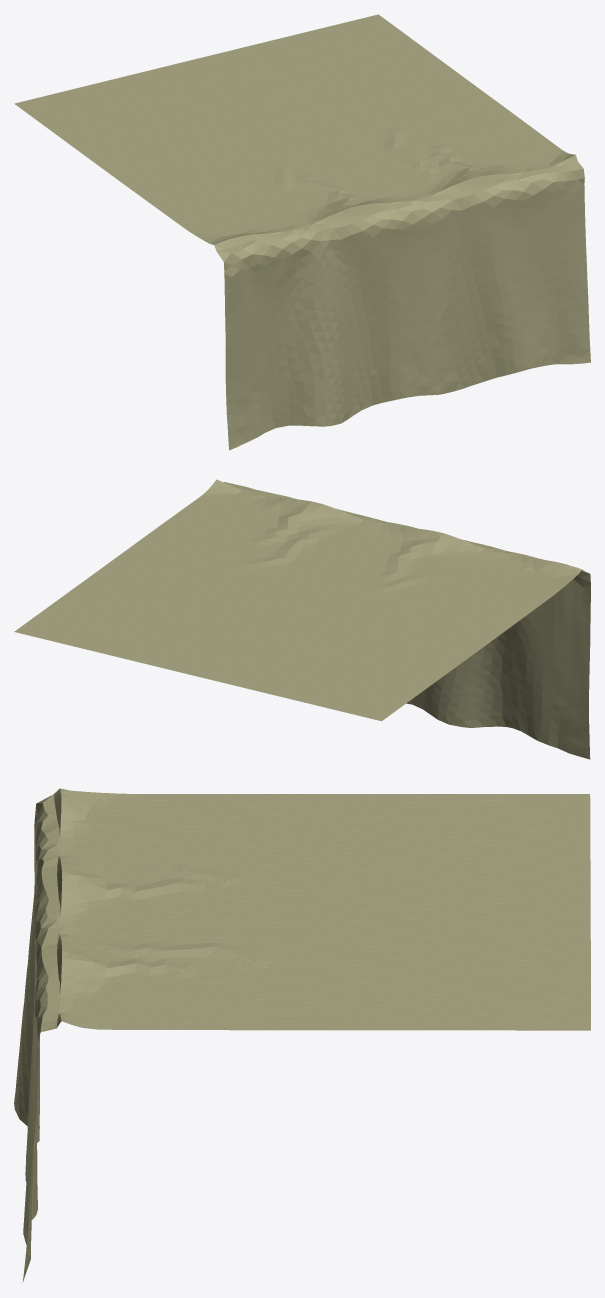
The model's file is task-09.glb.
3 views of the same model, one above another, from view 1: azimuth 30°, elevation 25°; view 2: azimuth 150°, elevation 25°; view 3: azimuth 270°, elevation 25° (orthographic). The views are drawn at different scales.
Visible parts, largest first — view 1: cloth__0; view 2: cloth__0; view 3: cloth__0.
Part boxes in pixels (x1,y1,x2,y2): cloth__0: (14,14,590,450); cloth__0: (14,479,590,759); cloth__0: (14,788,590,1282).
Size of the model in its own units: 0.5442 by 0.2867 by 0.5608.
Materials: 1 (1 with a texture image).
